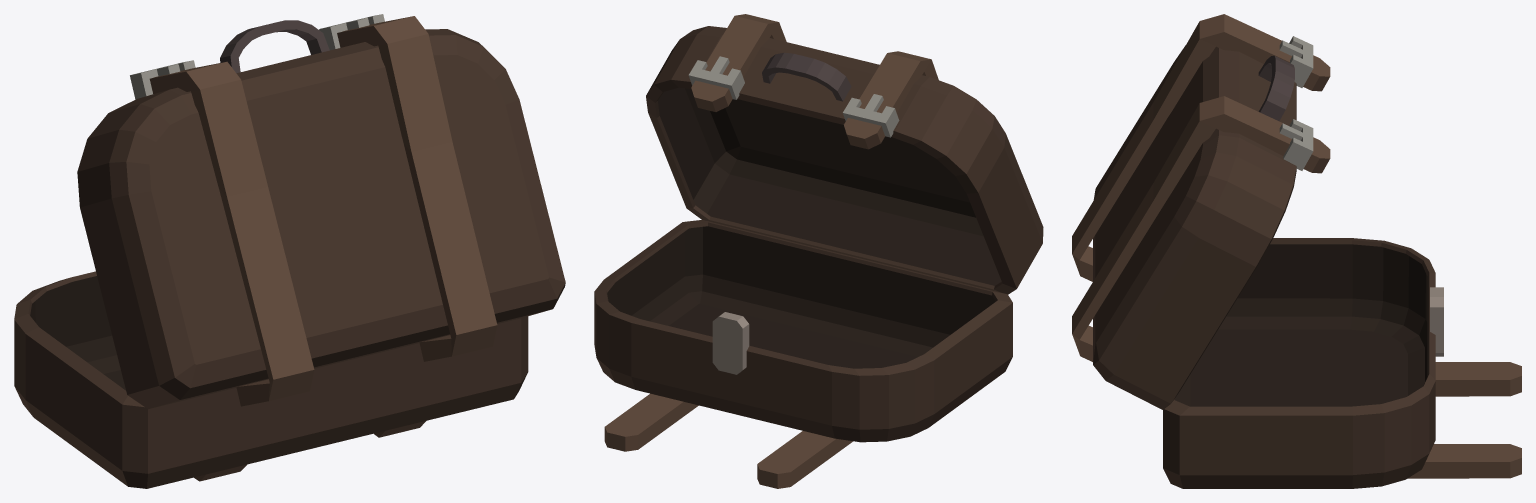
The model's file is 3D_Suitcase.fbx.
3 views of the same model, side by side, from view 1: azimuth 30°, elevation 25°; view 2: azimuth 150°, elevation 25°; view 3: azimuth 270°, elevation 25° (orthographic). The views are drawn at different scales.
Parts seen in each view (by area): view 1: 3D_Suitcase; view 2: 3D_Suitcase; view 3: 3D_Suitcase.
Boxes of the visible parts, x1,y1,x2,y2 form: 3D_Suitcase: [14, 14, 565, 488]; 3D_Suitcase: [594, 14, 1043, 488]; 3D_Suitcase: [1072, 14, 1521, 488].
Bounding box in the file's own units: 81.78 × 78.29 × 87.51.
